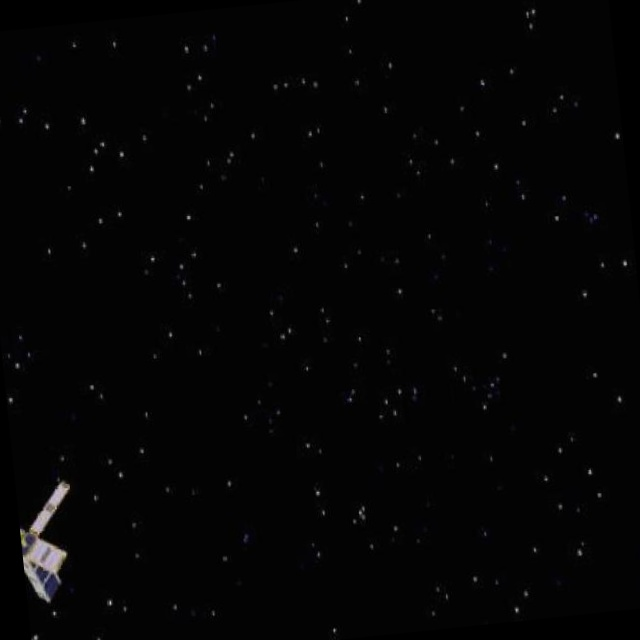satellite: (15, 473, 79, 609)
